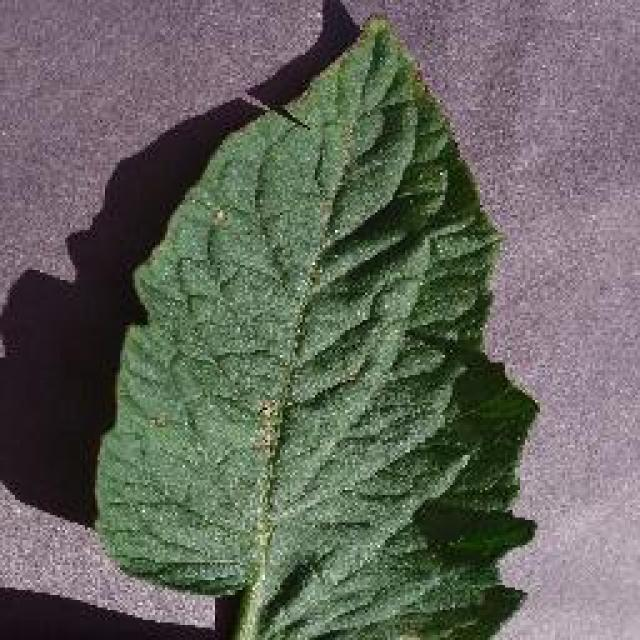Tomato Septoria spot leaf: (91, 17, 541, 640)
